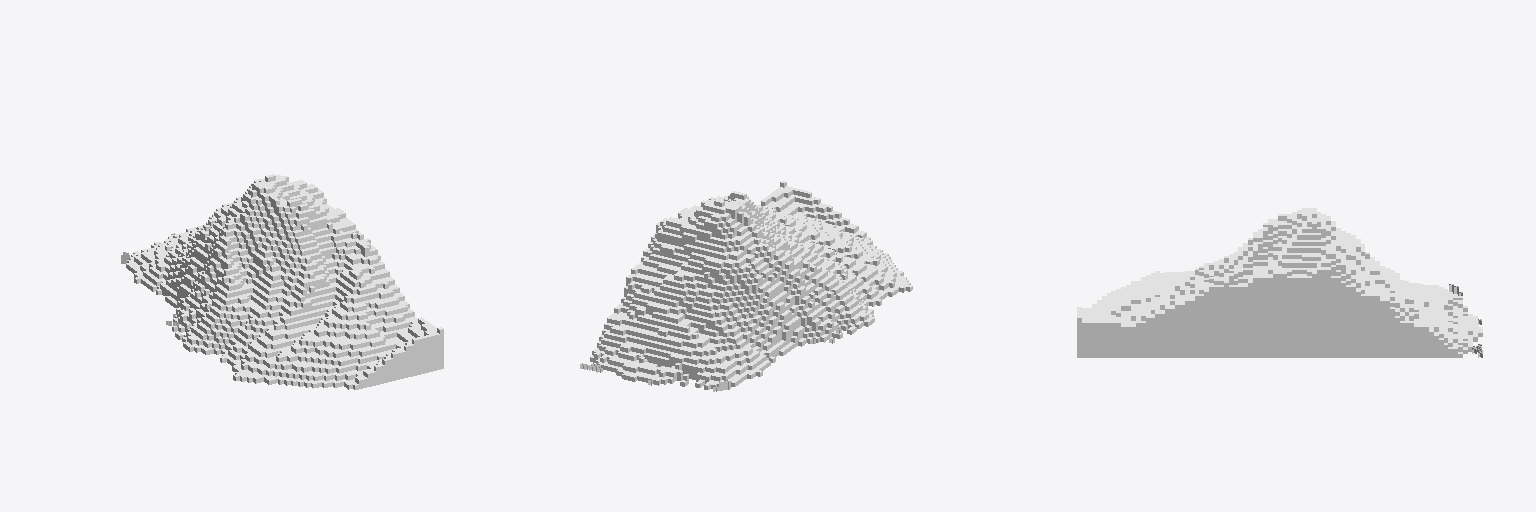
3 views of the same model, side by side, from view 1: azimuth 30°, elevation 25°; view 2: azimuth 150°, elevation 25°; view 3: azimuth 270°, elevation 25° (orthographic).
Parts seen in each view (by area): view 1: discord__-32_63_106_to_8_255_190; view 2: discord__-32_63_106_to_8_255_190; view 3: discord__-32_63_106_to_8_255_190.
Boxes of the visible parts, x1=… form: discord__-32_63_106_to_8_255_190: x1=121, y1=174, x2=443, y2=389; discord__-32_63_106_to_8_255_190: x1=580, y1=181, x2=912, y2=391; discord__-32_63_106_to_8_255_190: x1=1077, y1=208, x2=1482, y2=357.
Bounding box in the file's own units: 41 × 27 × 83.01.